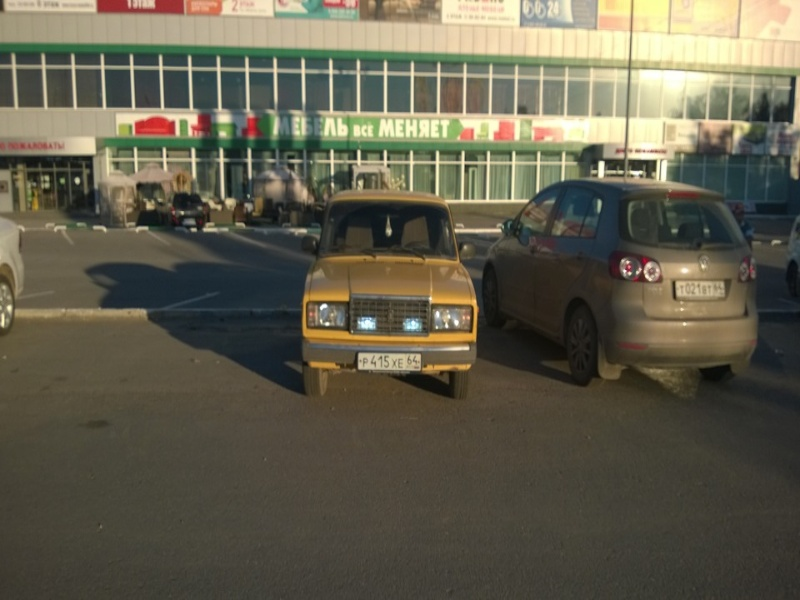car: (483, 178, 759, 386), (300, 190, 478, 397), (1, 214, 24, 333), (163, 193, 205, 230)
plate: (357, 353, 420, 372), (675, 280, 724, 296)
